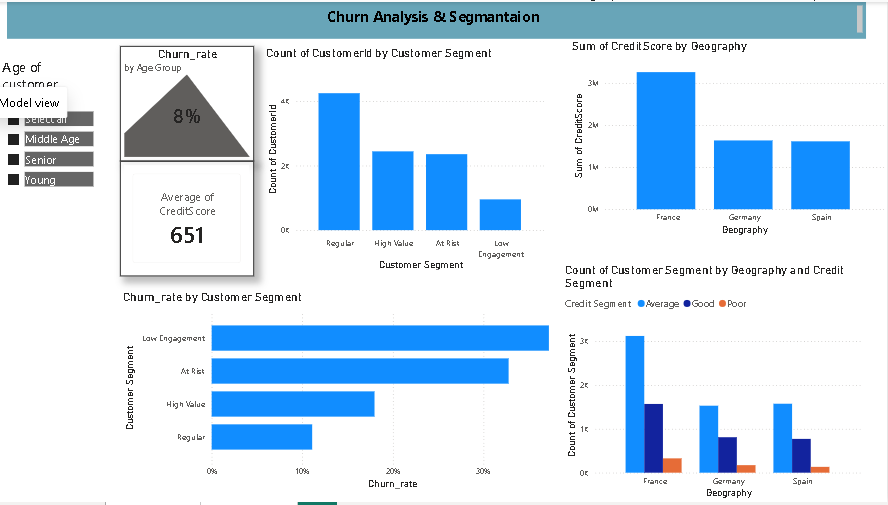

What the dashboard file says about the page in this screenshot:
{"tool":"powerbi","page":{"name":"Seg & Chu","canvas":[1280,720],"ordinal":1},"visuals":[{"type":"barChart","fields":{"Category":["Bank_Churn.Customer Segment"],"Y":["Bank_Churn.Churn_rate"]},"box":[174.3,414.3,670,291.4],"z":0},{"type":"clusteredColumnChart","fields":{"Category":["Bank_Churn.Geography"],"Series":["Bank_Churn.Credit Segment"],"Y":["CountNonNull(Bank_Churn.Customer Segment)"]},"box":[811.4,375.7,437.1,344.3],"z":1000},{"type":"textbox","box":[11.4,0,1237.1,52.9],"z":2000},{"type":"slicer","title":"Age of customer","fields":{"Values":["Bank_Churn.Age Group"]},"box":[0,80,141.4,227.1],"z":3000},{"type":"clusteredColumnChart","fields":{"Category":["Bank_Churn.Customer Segment"],"Y":["CountNonNull(Bank_Churn.CustomerId)"]},"box":[380,62.9,410,327.1],"z":4000},{"type":"kpi","fields":{"TrendLine":["Bank_Churn.Age Group"],"Indicator":["Bank_Churn.Churn_rate"]},"box":[174.3,62.9,192.9,165.7],"z":5000},{"type":"cardVisual","fields":{"Data":["Avg(Bank_Churn.CreditScore)"]},"box":[174.3,228.6,192.9,165.7],"z":6000},{"type":"clusteredColumnChart","fields":{"Y":["Sum(Bank_Churn.CreditScore)"],"Category":["Bank_Churn.Geography"]},"box":[821.4,52.9,458.6,287.1],"z":7000}]}

Visuals, with their boxes in screenshot pixels (x1, y1, x2, y2), scaled from the page's 1280x720 canvas onto the 888x505 screenshot:
barChart - Bank_Churn.Customer Segment x Bank_Churn.Churn_rate: bbox=(121, 291, 586, 495)
clusteredColumnChart - Bank_Churn.Geography x Bank_Churn.Credit Segment: bbox=(563, 264, 866, 504)
textbox: bbox=(8, 0, 866, 37)
"Age of customer" slicer: bbox=(0, 56, 98, 215)
clusteredColumnChart - Bank_Churn.Customer Segment x CountNonNull(Bank_Churn.CustomerId): bbox=(264, 44, 548, 274)
kpi - Bank_Churn.Age Group x Bank_Churn.Churn_rate: bbox=(121, 44, 255, 160)
cardVisual - Avg(Bank_Churn.CreditScore): bbox=(121, 160, 255, 277)
clusteredColumnChart - Sum(Bank_Churn.CreditScore) x Bank_Churn.Geography: bbox=(570, 37, 887, 238)
